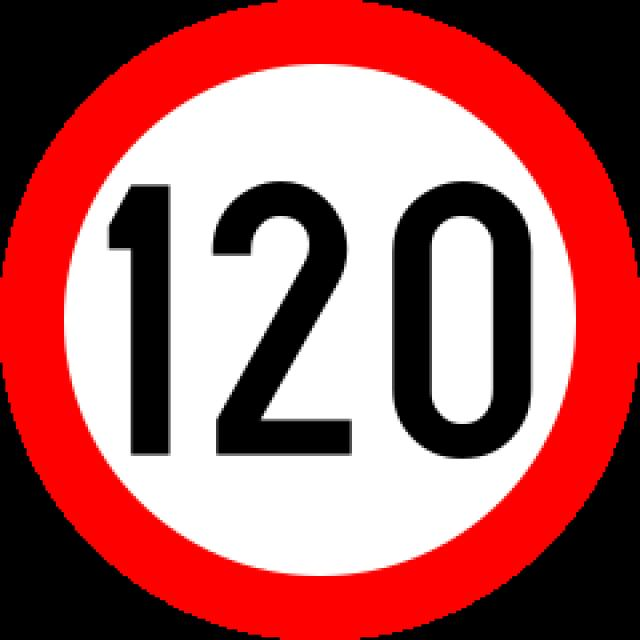Speed Limit -120-: (91, 166, 548, 482)
